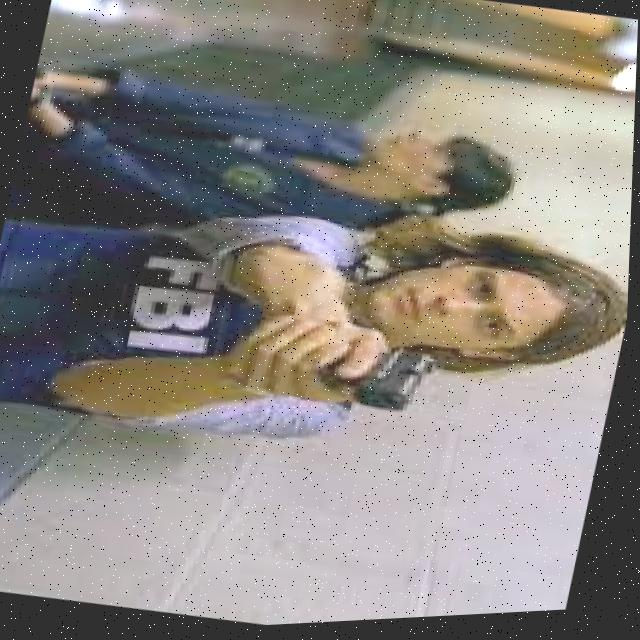pistol: (313, 335, 450, 427)
